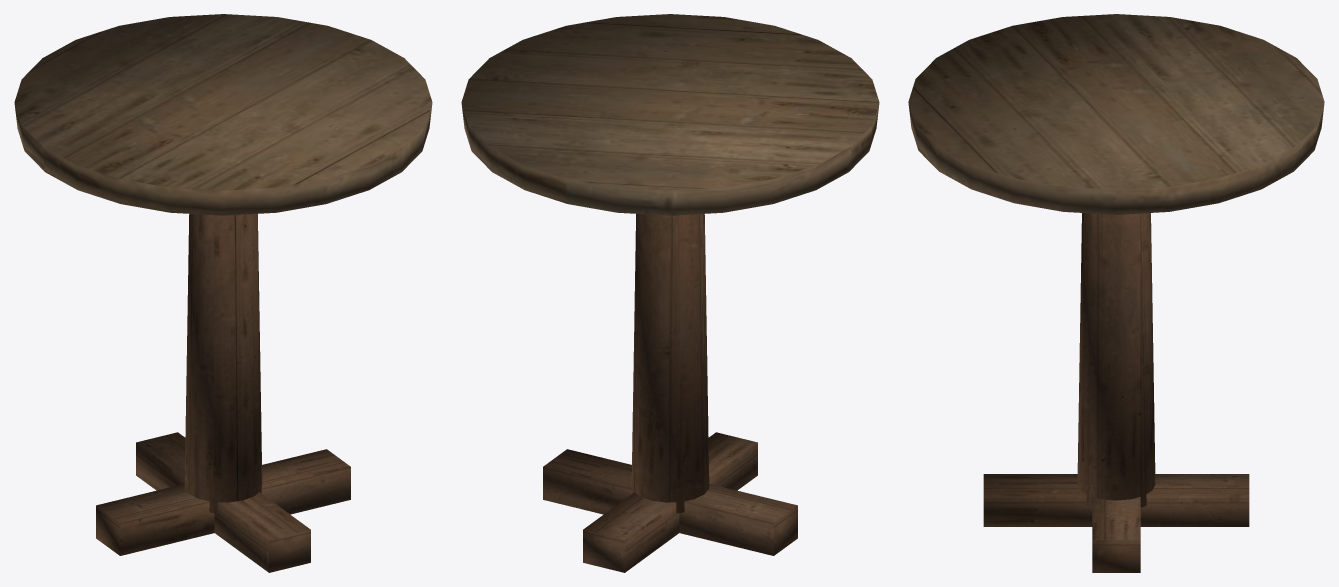
The model's file is mesa_redonda.glb.
3 views of the same model, side by side, from view 1: azimuth 30°, elevation 25°; view 2: azimuth 150°, elevation 25°; view 3: azimuth 270°, elevation 25° (orthographic).
Visible parts, largest first — view 1: mesa_redonda; view 2: mesa_redonda; view 3: mesa_redonda.
Boxes of the visible parts, x1,y1,x2,y2 form: mesa_redonda: (14, 14, 432, 572); mesa_redonda: (461, 14, 879, 572); mesa_redonda: (908, 14, 1324, 572).
Bounding box in the file's own units: 0.69 × 0.759 × 0.69.
Materials: 2 (2 with a texture image).
